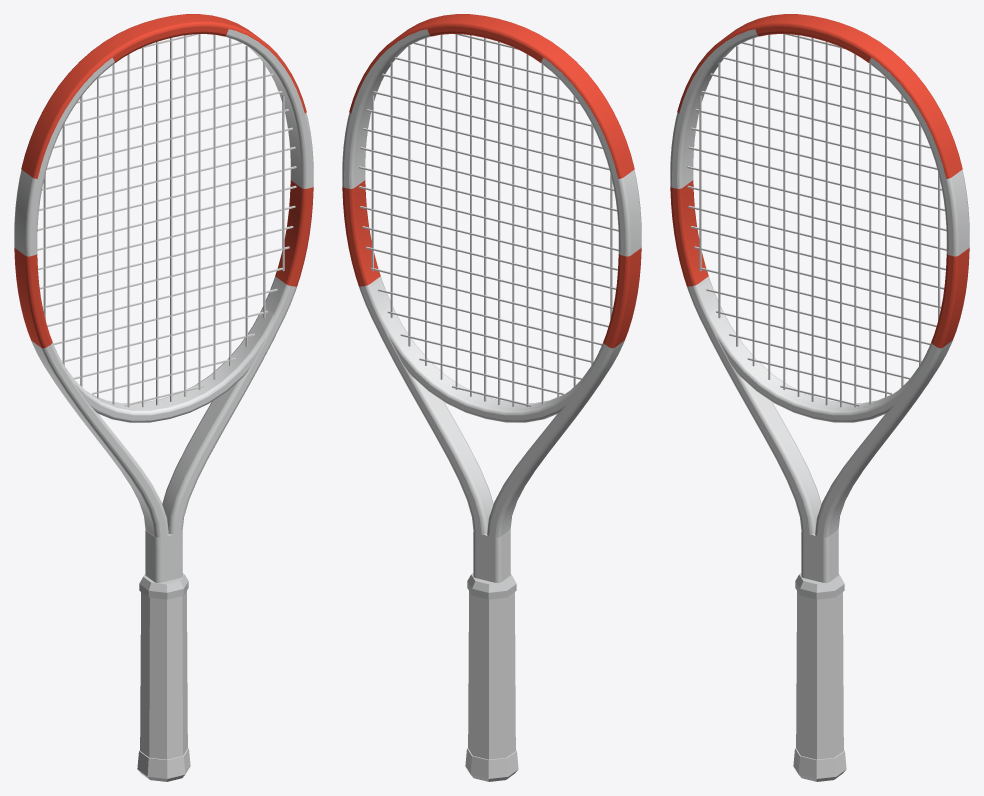
File: babolat-pure-strike-junior-26-2019gen.glb
The picture shows the model from 3 angles, left to right: view 1: azimuth 30°, elevation 25°; view 2: azimuth 150°, elevation 25°; view 3: azimuth 330°, elevation 25°; orthographic projection.
Parts seen in each view (by area): view 1: frame, strings_mains, strings_crosses, grip, bumper, butt_cap, collar; view 2: frame, strings_mains, strings_crosses, grip, bumper, butt_cap, collar; view 3: frame, strings_mains, strings_crosses, grip, bumper, butt_cap, collar.
Part boxes in pixels (left/top/right/bottom): frame: left=14, top=26, right=313, bottom=582; strings_mains: left=43, top=34, right=284, bottom=407; strings_crosses: left=37, top=34, right=296, bottom=406; grip: left=140, top=591, right=187, bottom=759; bumper: left=21, top=14, right=306, bottom=178; butt_cap: left=137, top=748, right=190, bottom=781; collar: left=139, top=573, right=188, bottom=599; frame: left=342, top=26, right=641, bottom=582; strings_mains: left=371, top=34, right=612, bottom=406; strings_crosses: left=359, top=34, right=618, bottom=406; grip: left=468, top=591, right=515, bottom=759; bumper: left=349, top=14, right=634, bottom=178; butt_cap: left=465, top=748, right=518, bottom=781; collar: left=467, top=573, right=516, bottom=599; frame: left=670, top=26, right=969, bottom=582; strings_mains: left=699, top=34, right=940, bottom=407; strings_crosses: left=687, top=34, right=946, bottom=406; grip: left=796, top=591, right=843, bottom=759; bumper: left=677, top=14, right=962, bottom=178; butt_cap: left=793, top=748, right=846, bottom=781; collar: left=795, top=573, right=844, bottom=599.
Bounding box in the file's own units: 0.2658 × 0.6607 × 0.0396.
